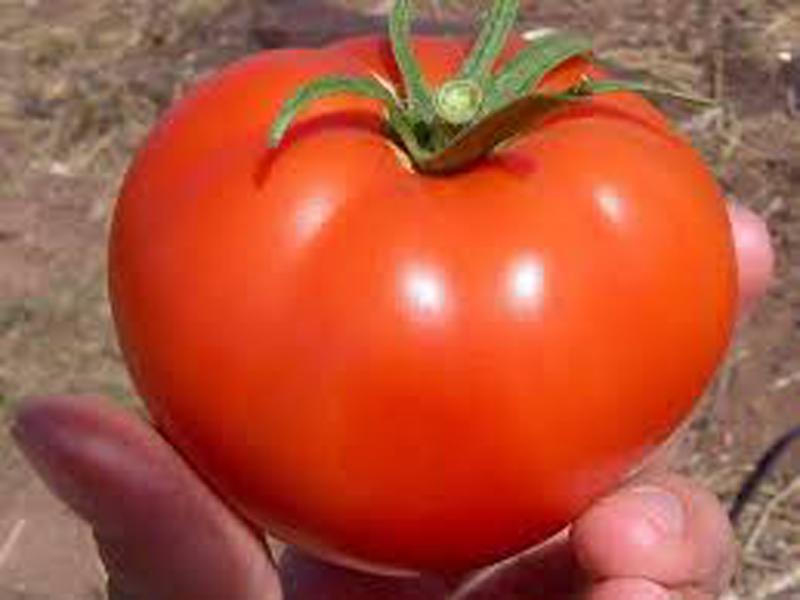Tomato: (117, 37, 735, 569)
